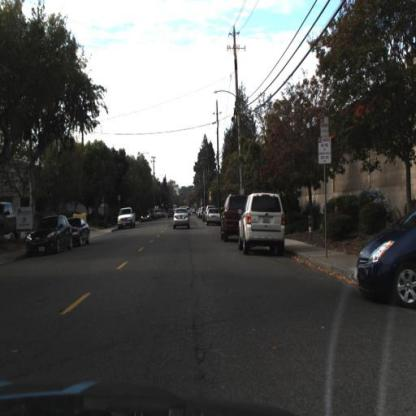car: (357, 207, 416, 311), (238, 189, 287, 255), (23, 210, 72, 258), (25, 212, 73, 257), (221, 192, 240, 242), (69, 214, 91, 252), (170, 204, 191, 234), (73, 217, 92, 247), (116, 204, 137, 230), (116, 206, 137, 232), (172, 206, 190, 231), (204, 209, 223, 230), (140, 207, 152, 226)
